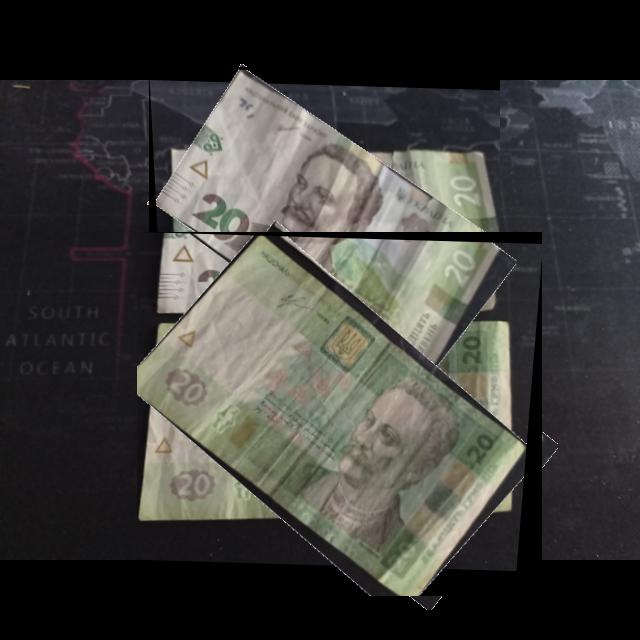20uah: (137, 235, 531, 597), (155, 70, 501, 380)
